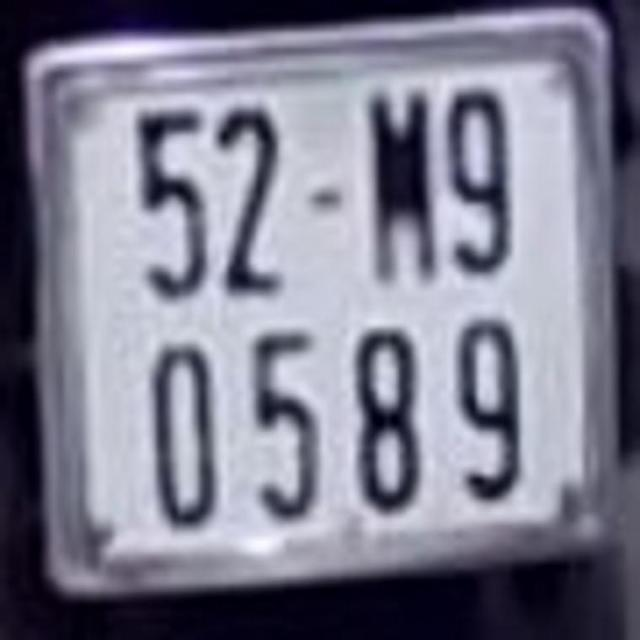0: (150, 334, 222, 534)
2: (215, 92, 284, 300)
5: (134, 96, 212, 303), (250, 326, 323, 524)
8: (353, 316, 427, 516)
9: (452, 308, 531, 504), (443, 80, 517, 280)
M: (364, 86, 442, 292)
